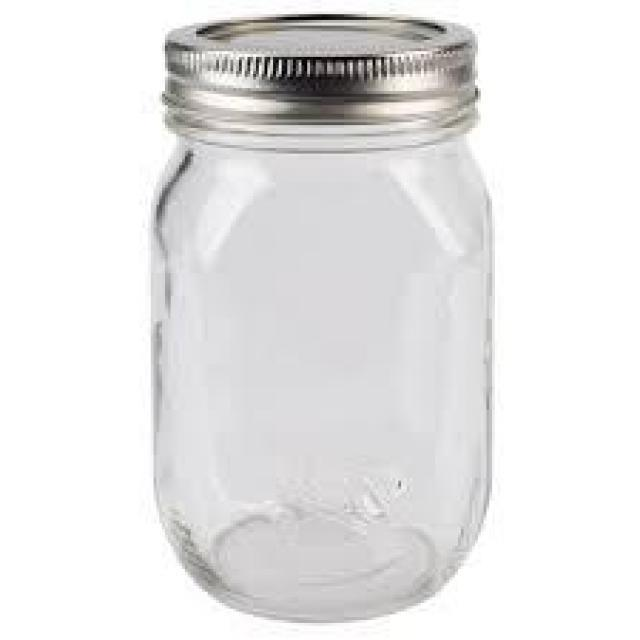glass: (143, 6, 500, 628)
